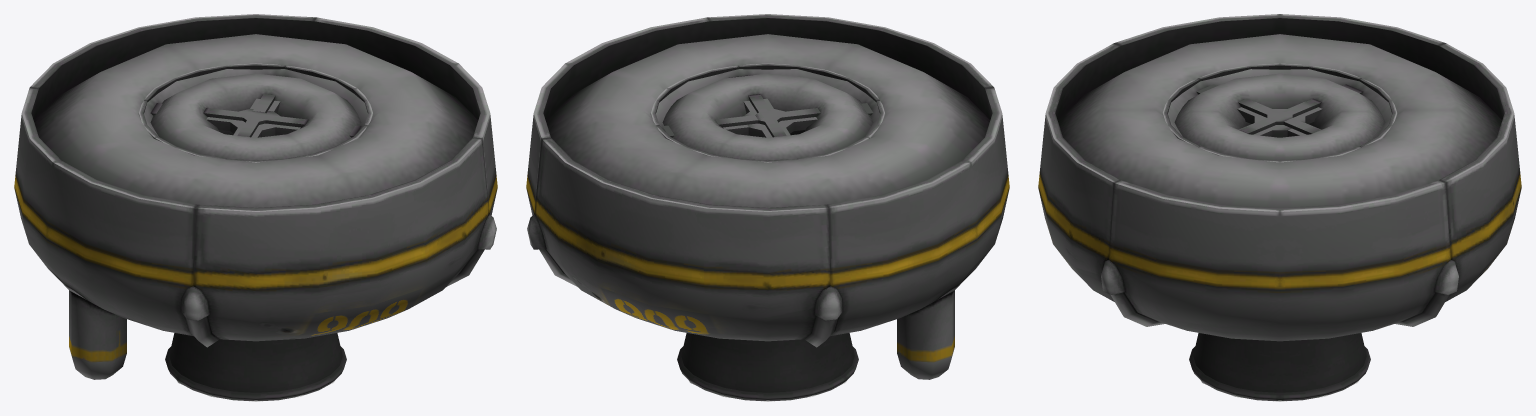
The picture shows the model from 3 angles, left to right: view 1: azimuth 30°, elevation 25°; view 2: azimuth 150°, elevation 25°; view 3: azimuth 270°, elevation 25°; orthographic projection.
Visible parts, largest first — view 1: Frame001, Frame, Engine; view 2: Frame001, Frame, Engine; view 3: Frame001, Frame, Engine.
Part boxes in pixels (<box>): Frame001: <box>14,14,497,379</box>; Frame: <box>138,63,373,162</box>; Engine: <box>165,333,346,400</box>; Frame001: <box>526,14,1009,379</box>; Frame: <box>650,63,885,162</box>; Engine: <box>677,333,858,400</box>; Frame001: <box>1038,14,1521,341</box>; Frame: <box>1162,63,1397,162</box>; Engine: <box>1189,333,1370,400</box>.
Size of what is drawn, in the model's own units: 1.25 by 0.7247 by 1.25.
